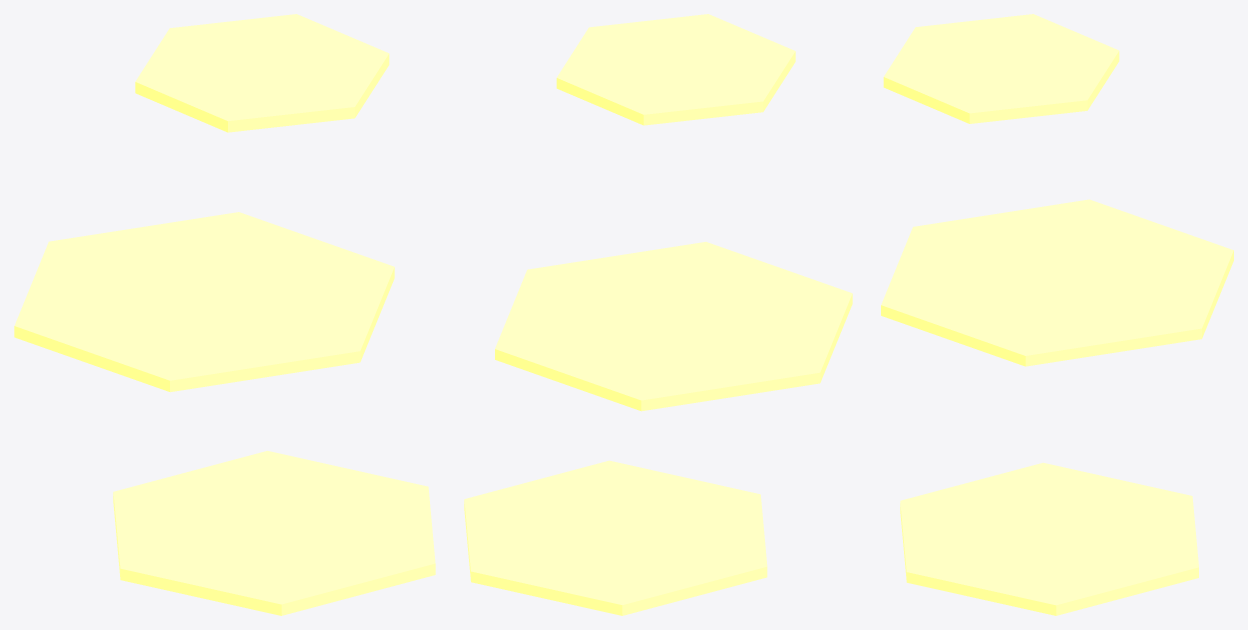
Rendered from Facet_B.glb.
The picture shows the model from 3 angles, left to right: view 1: azimuth 30°, elevation 25°; view 2: azimuth 150°, elevation 25°; view 3: azimuth 270°, elevation 25°; orthographic projection. The views are drawn at different scales.
Parts seen in each view (by area): view 1: Facet; view 2: Facet; view 3: Facet.
Part boxes in pixels (x1,y1,x2,y2): Facet: (14, 14, 435, 615); Facet: (464, 14, 852, 615); Facet: (881, 14, 1233, 615).
Bounding box in the file's own units: 10.87 × 13.1 × 9.04.
